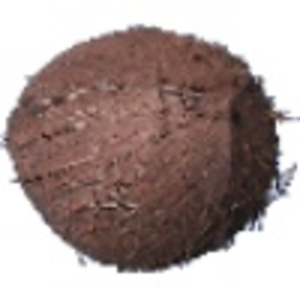coco: (1, 26, 300, 273)
